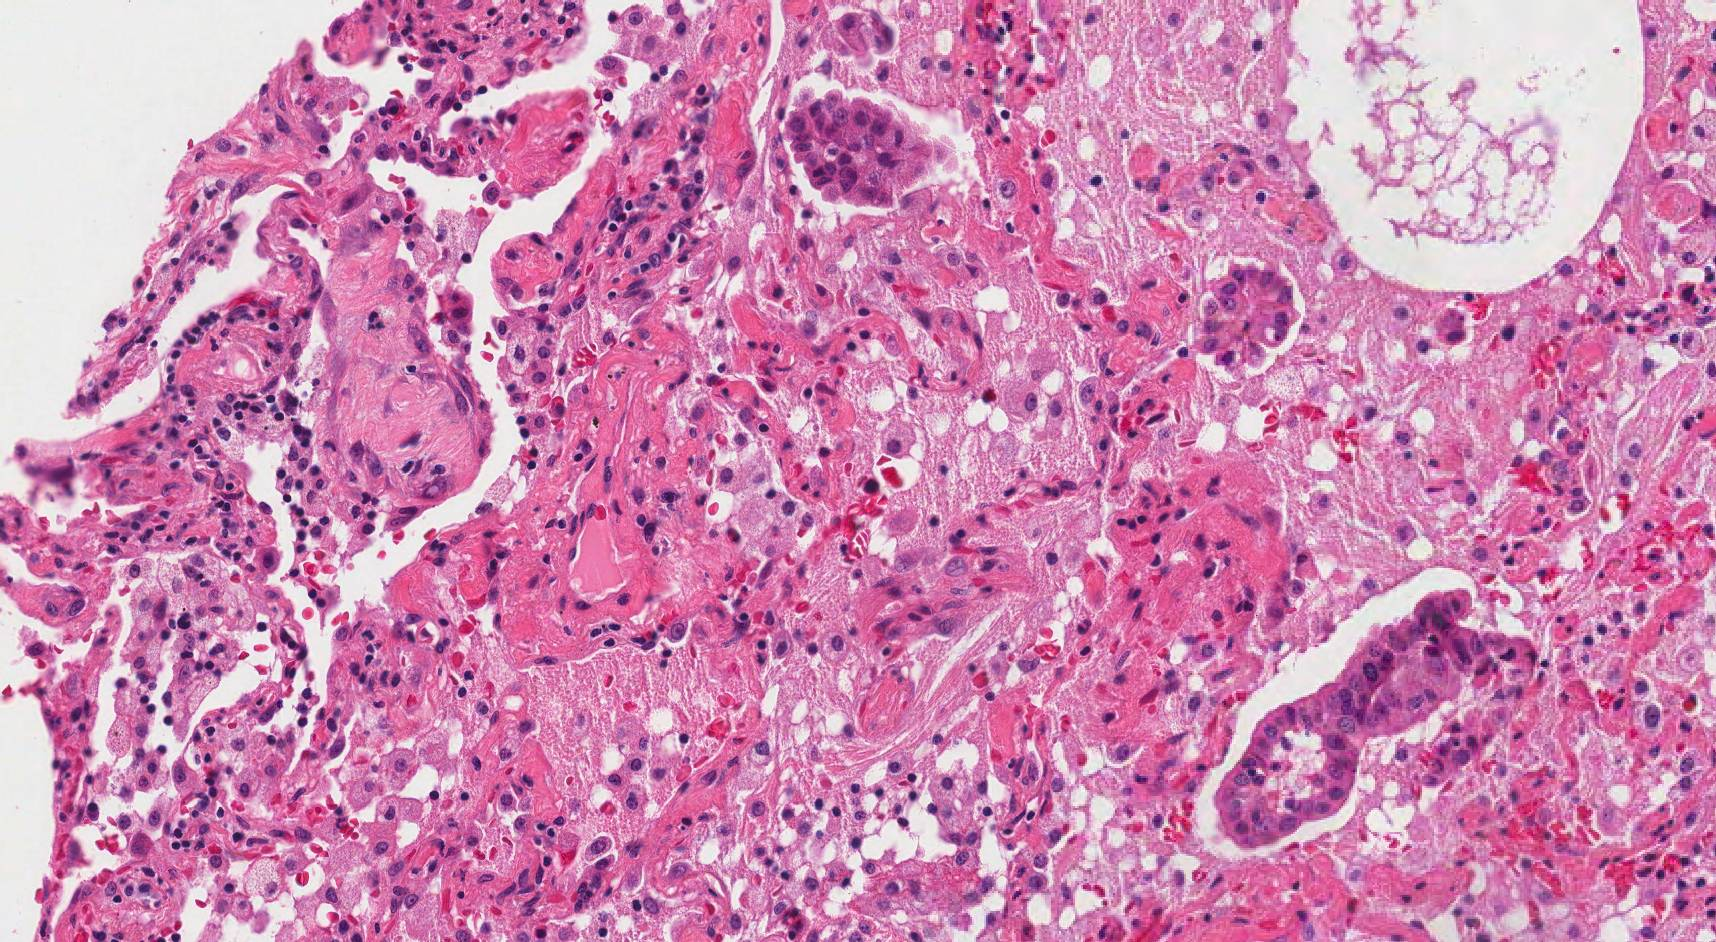stas: (1212, 594, 1493, 851), (787, 93, 935, 207), (1191, 262, 1296, 371)
